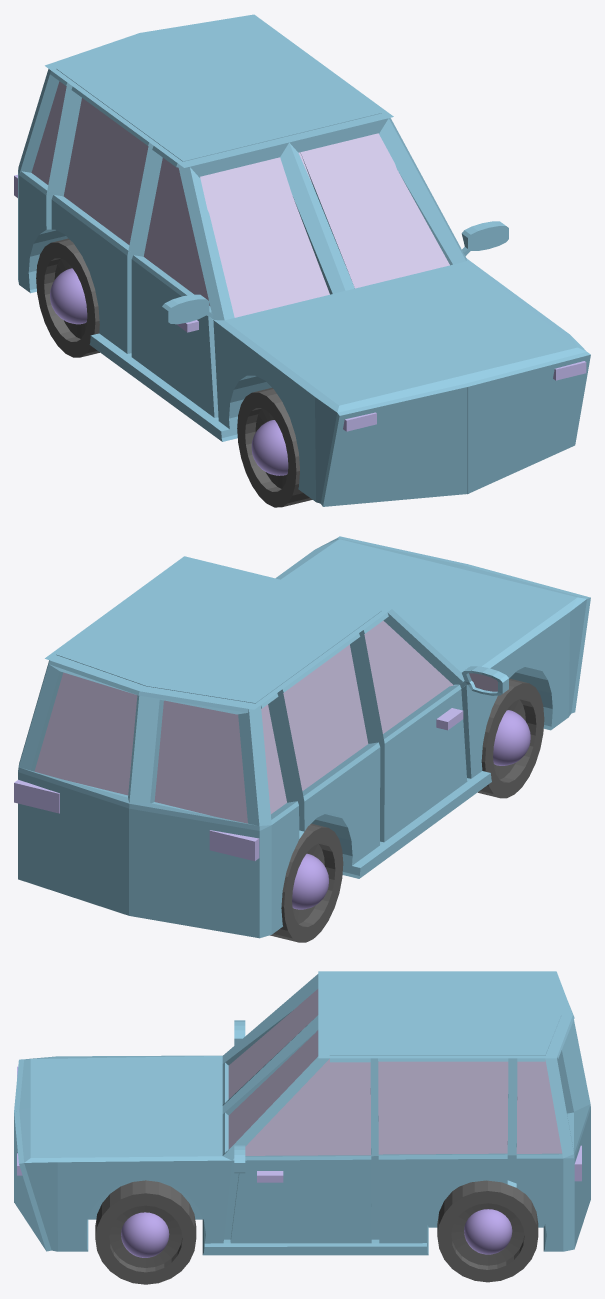
Rendered from blueGumballCar.fbx.
The picture shows the model from 3 angles, top to bottom: view 1: azimuth 30°, elevation 25°; view 2: azimuth 150°, elevation 25°; view 3: azimuth 270°, elevation 25°; orthographic projection. The views are drawn at different scales.
Parts seen in each view (by area): view 1: CarBase, Windows, Wheels, Gumball, FrontLights; view 2: CarBase, Windows, Wheels, Gumball, BackLights; view 3: CarBase, Windows, Wheels, Gumball.
Boxes of the visible parts, x1=… form: CarBase: x1=18, y1=14, x2=590, y2=506; Windows: x1=31, y1=81, x2=449, y2=317; Wheels: x1=36, y1=238, x2=312, y2=507; Gumball: x1=50, y1=268, x2=288, y2=475; FrontLights: x1=343, y1=361, x2=586, y2=431; CarBase: x1=18, y1=536, x2=590, y2=938; Windows: x1=34, y1=620, x2=453, y2=823; Wheels: x1=270, y1=678, x2=544, y2=942; Gumball: x1=292, y1=710, x2=530, y2=909; BackLights: x1=14, y1=779, x2=259, y2=861; CarBase: x1=14, y1=971, x2=590, y2=1255; Windows: x1=228, y1=989, x2=562, y2=1155; Wheels: x1=95, y1=1180, x2=538, y2=1284; Gumball: x1=121, y1=1209, x2=512, y2=1257.
Size of the model in its own units: 553 by 399 by 953.
